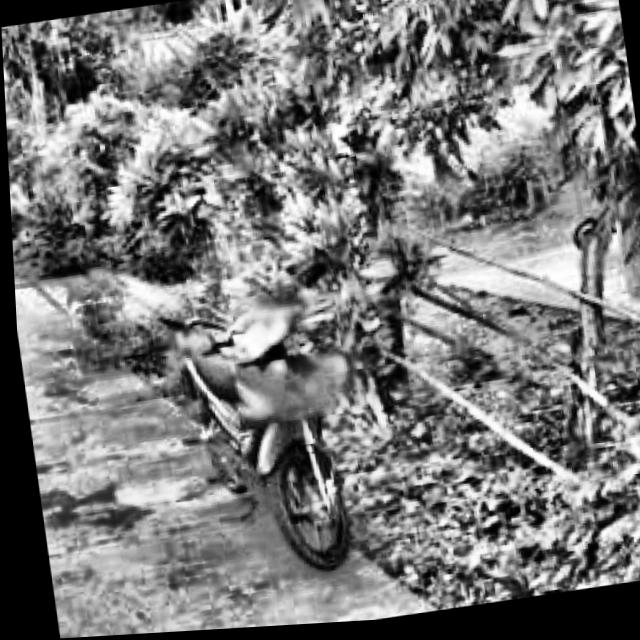motorcycle: (129, 254, 390, 596)
